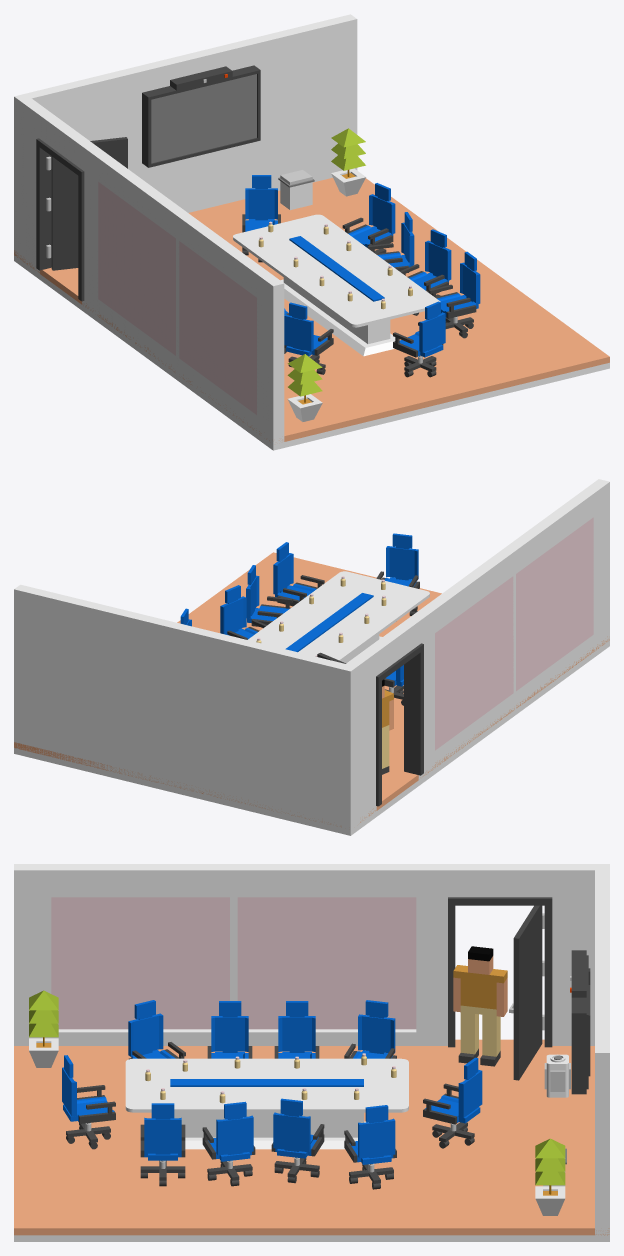
Rendered from conference room .glb.
3 views of the same model, one above another, from view 1: azimuth 30°, elevation 25°; view 2: azimuth 150°, elevation 25°; view 3: azimuth 270°, elevation 25° (orthographic). The views are drawn at different scales.
Visible parts, largest first — view 1: box (×27), wedge; view 2: box (×18); view 3: box (×34), pyramid4 (×2), wedge.
Boxes of the visible parts, left/top/right/bottom form: box (×27): left=14, top=14, right=609, bottom=450; wedge: left=284, top=289, right=365, bottom=353; box (×18): left=14, top=479, right=609, bottom=835; box (×34): left=14, top=864, right=609, bottom=1241; pyramid4 (×2): left=29, top=990, right=565, bottom=1158; wedge: left=185, top=1140, right=357, bottom=1149.
Size of the model in its own units: 60.5 by 28 by 80.
